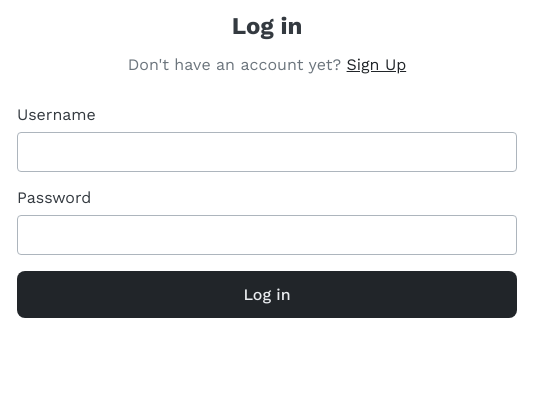
Test case: Shows error when api returns error
Type "johndoe1" into the field labelled "Username".
click(267, 152); type("johndoe1")  # box x1=17 y1=132 x2=517 y2=172
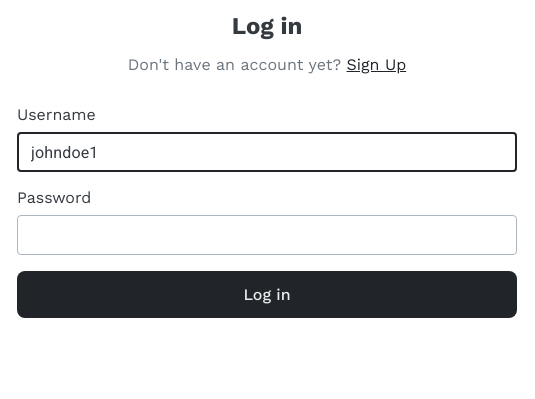
Type "password" into the password field labelled "Password".
click(267, 235); type("password")  # box x1=17 y1=215 x2=517 y2=255
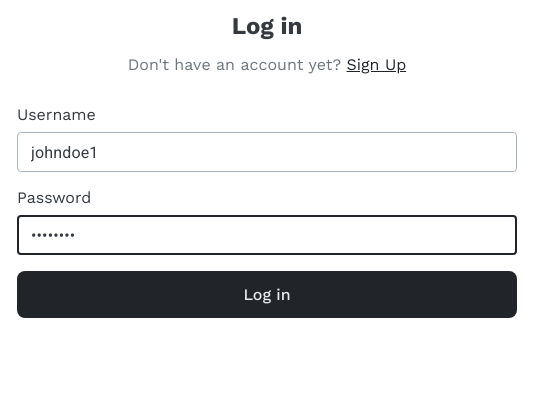
Click the button "Log in".
click(267, 294)  # box x1=17 y1=271 x2=517 y2=318
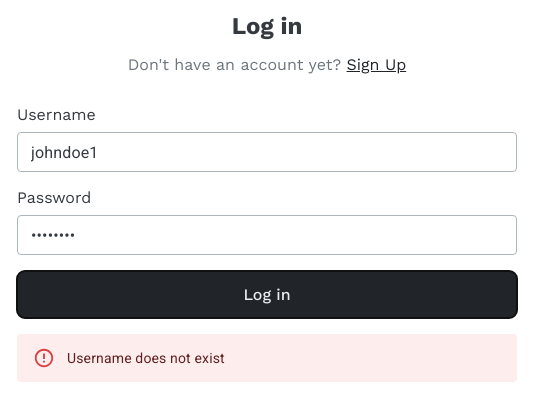
Now the text "Username does not exist" is shown, box x1=67 y1=350 x2=225 y2=366
